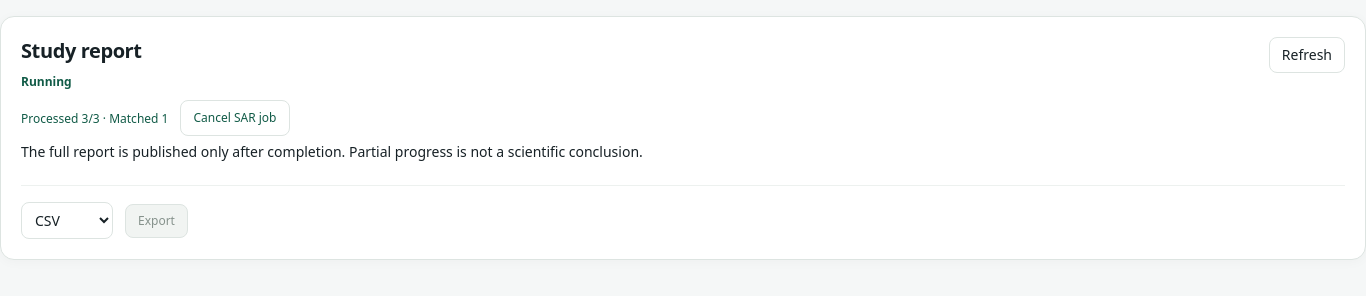
Test case: complete study report and lifecycle › cancels/resumes only explicit current jobs, blocks stale resume, and aborts reads when inactive
Click the button "Cancel SAR job": [235, 118] box [180,100,290,136]
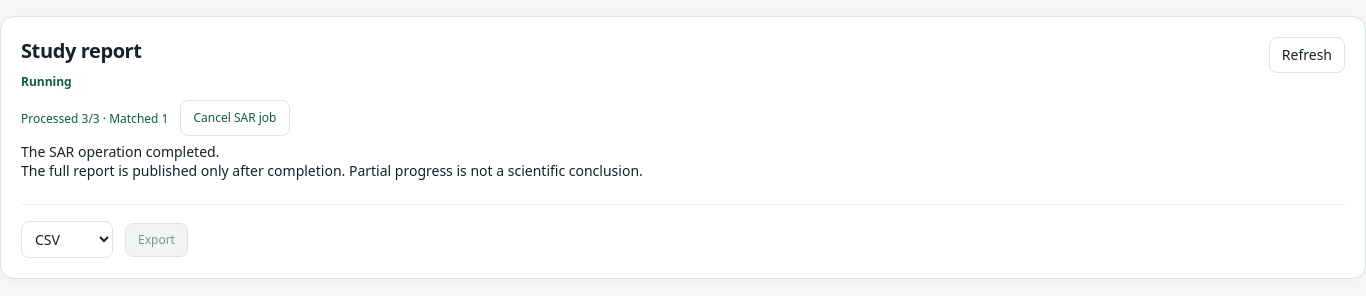
Click the button "Refresh": [1307, 55] box [1269,37,1345,73]
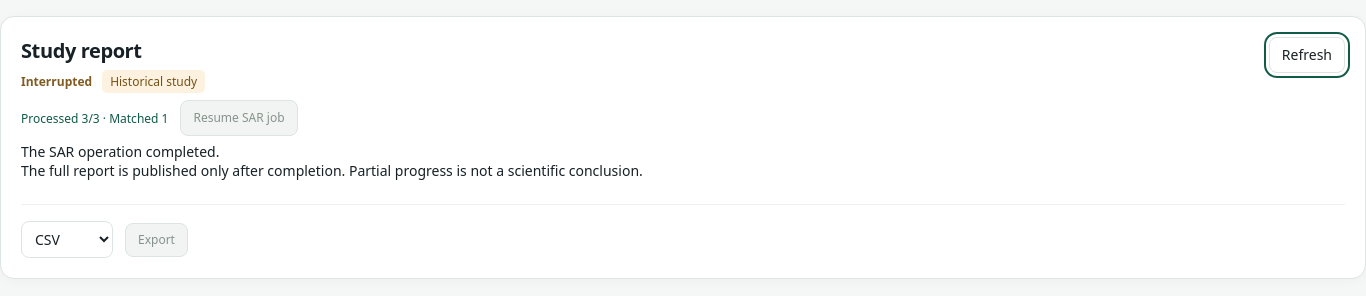
Now the button "Resume SAR job" is disabled, box [180,100,298,136]
